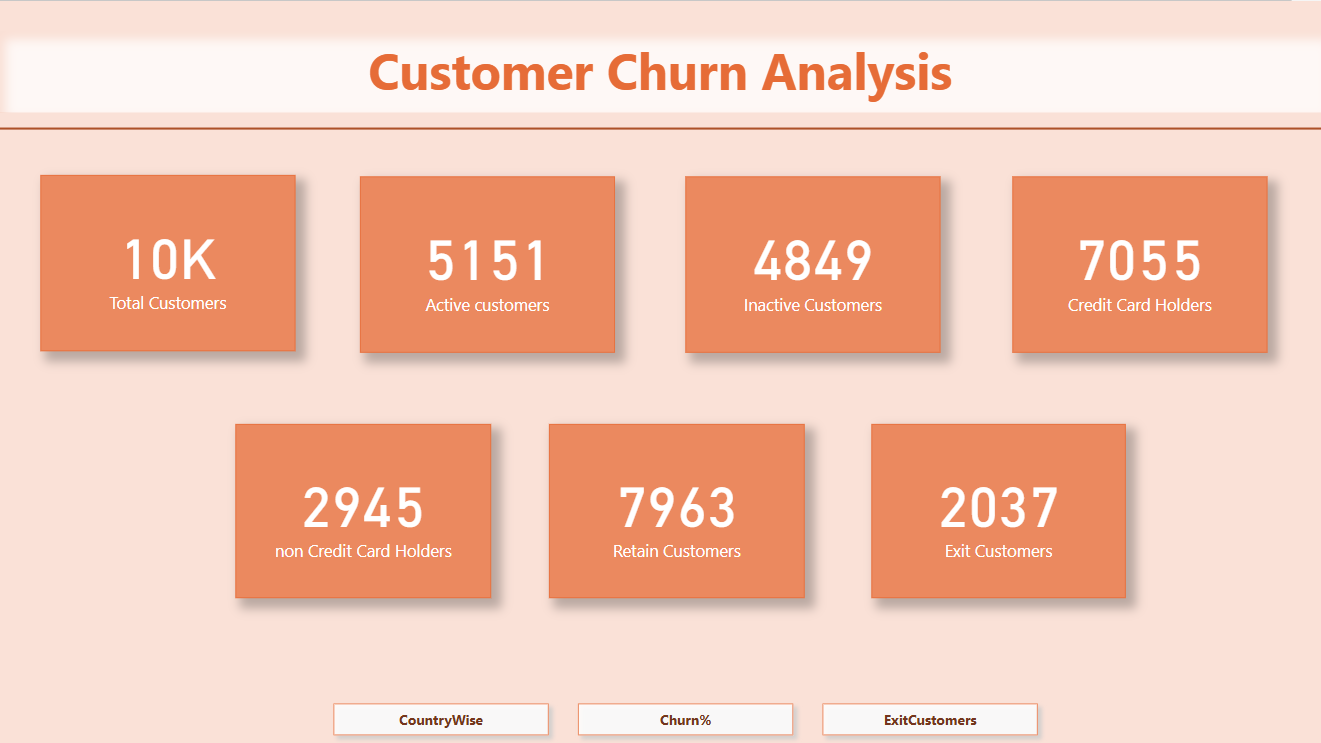

This screenshot's page, from the dashboard's own definition file:
{"tool":"powerbi","page":{"name":"HomePage","canvas":[1280,720],"ordinal":0},"visuals":[{"type":"shape","box":[0,74.3,1280,98.6],"z":0},{"type":"textbox","box":[0,29.6,1280.3,78.9],"z":1000},{"type":"card","fields":{"Values":["Calculations.Total Customers"]},"box":[42,168,246,170],"z":2000},{"type":"card","fields":{"Values":["Calculations.Active customers"]},"box":[350,170,246,170],"z":3000},{"type":"card","fields":{"Values":["Calculations.Inactive Customers"]},"box":[664,170,246,170],"z":4000},{"type":"card","fields":{"Values":["Calculations.Credit Card Holders"]},"box":[980,170,246,170],"z":5000},{"type":"card","fields":{"Values":["Calculations.non Credit Card Holders"]},"box":[230.2,408.8,246.8,168.1],"z":6000},{"type":"card","fields":{"Values":["Calculations.Retain Customers"]},"box":[533,408.8,246.8,168.1],"z":7000},{"type":"card","fields":{"Values":["Calculations.Exit Customers"]},"box":[843.4,408.8,245.3,168.1],"z":8000},{"type":"pageNavigator","box":[315,669.3,699.6,50],"z":11001}]}

Visuals, with their boxes in screenshot pixels (x1, y1, x2, y2), scaled from the page's 1280x720 canvas onto the 1321x743 screenshot:
shape: BBox(0, 77, 1320, 178)
textbox: BBox(0, 31, 1320, 112)
card - Calculations.Total Customers: BBox(43, 173, 297, 349)
card - Calculations.Active customers: BBox(361, 175, 615, 351)
card - Calculations.Inactive Customers: BBox(685, 175, 939, 351)
card - Calculations.Credit Card Holders: BBox(1011, 175, 1265, 351)
card - Calculations.non Credit Card Holders: BBox(238, 422, 492, 595)
card - Calculations.Retain Customers: BBox(550, 422, 805, 595)
card - Calculations.Exit Customers: BBox(870, 422, 1124, 595)
pageNavigator: BBox(325, 691, 1047, 742)
